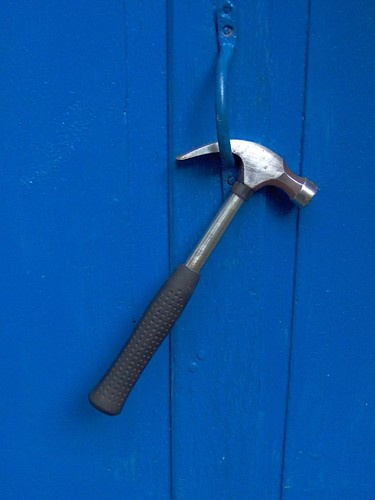hammer: (88, 138, 321, 416)
